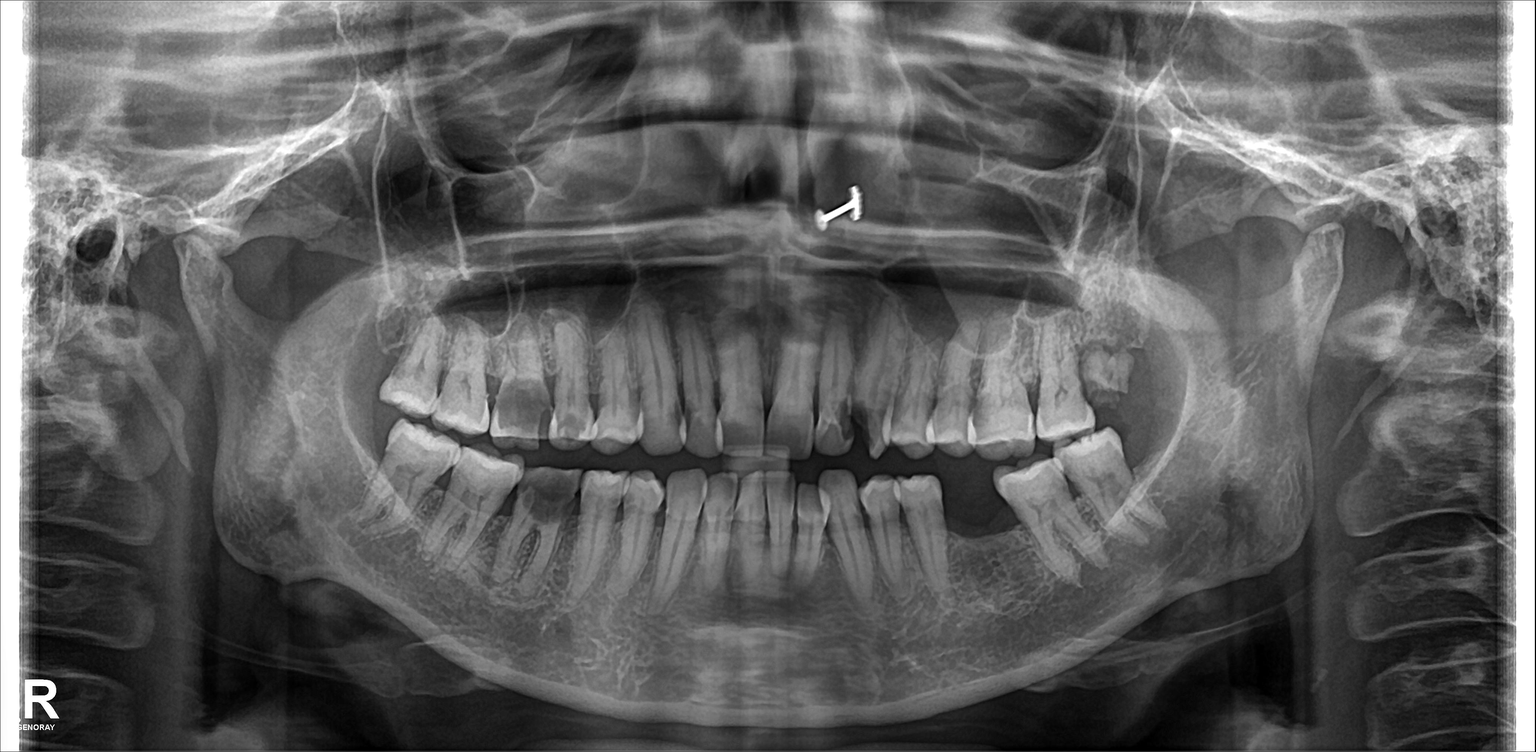Dental Caries: (501, 380, 554, 431), (521, 469, 575, 518), (546, 396, 587, 435), (832, 402, 858, 438), (860, 410, 880, 447)
Missing Tooth: (953, 471, 1004, 569), (356, 292, 398, 407), (341, 411, 383, 515), (1145, 322, 1190, 417), (1132, 424, 1181, 503)
Retained Root: (1084, 322, 1138, 416)
